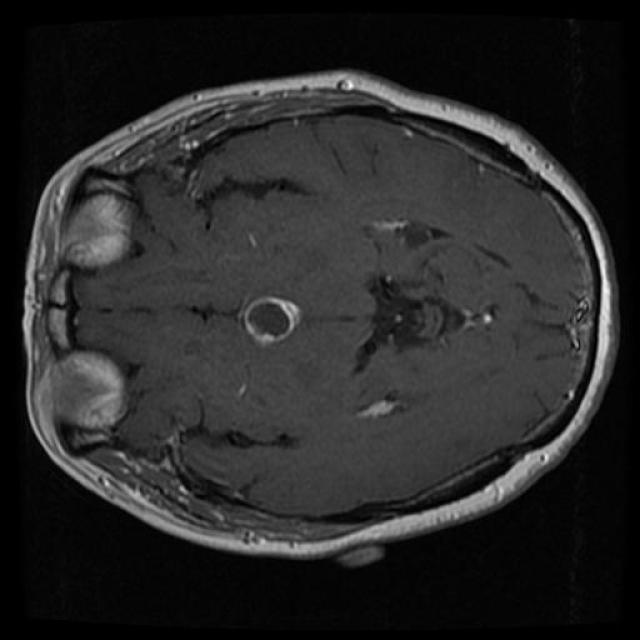Pituitary: (238, 296, 301, 347)
